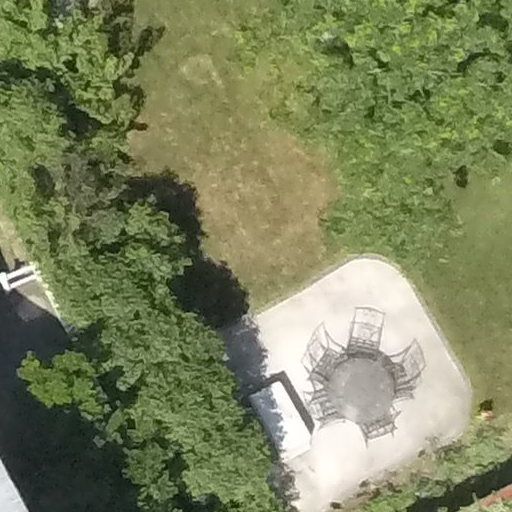chair: (296, 314, 350, 379), (337, 299, 390, 358), (384, 332, 430, 399), (353, 399, 412, 442), (299, 381, 343, 429)
table: (308, 338, 399, 432)
